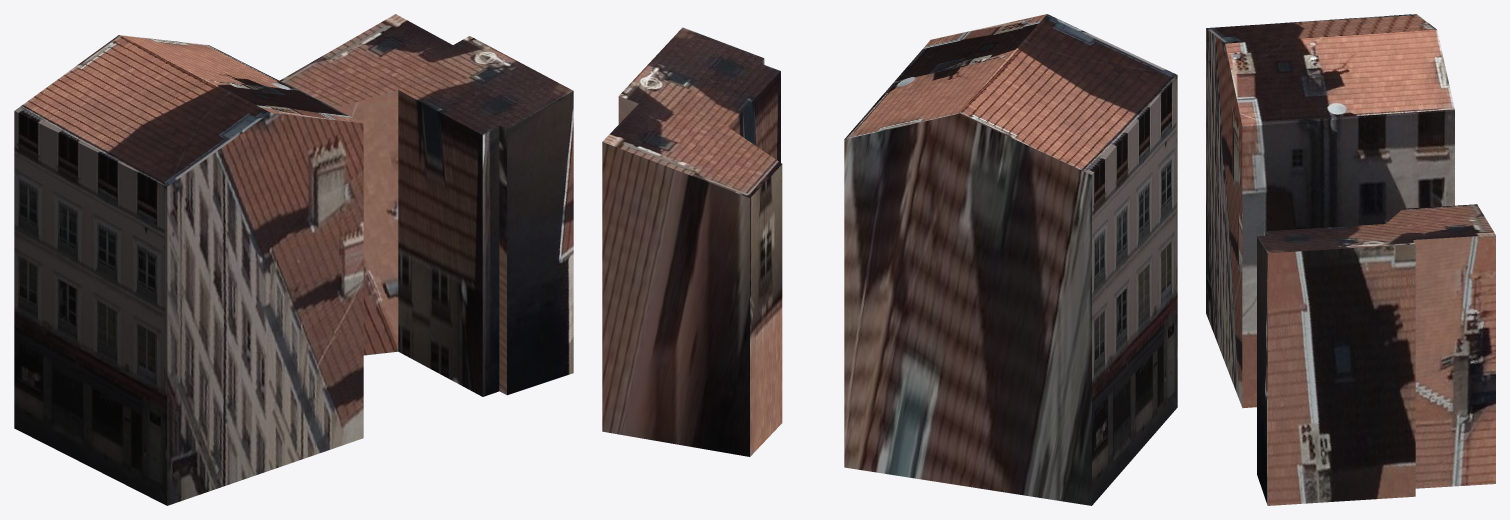
The picture shows the model from 3 angles, left to right: view 1: azimuth 30°, elevation 25°; view 2: azimuth 150°, elevation 25°; view 3: azimuth 270°, elevation 25°; orthographic projection. The views are drawn at different scales.
Parts seen in each view (by area): view 1: Z_UP; view 2: Z_UP; view 3: Z_UP.
Part boxes in pixels (x1=…): Z_UP: x1=14, y1=14, x2=573, y2=505; Z_UP: x1=602, y1=14, x2=1177, y2=505; Z_UP: x1=1206, y1=14, x2=1495, y2=505.
Bounding box in the file's own units: 22.08 × 15.85 × 13.01.
2 materials, 1 textured.
